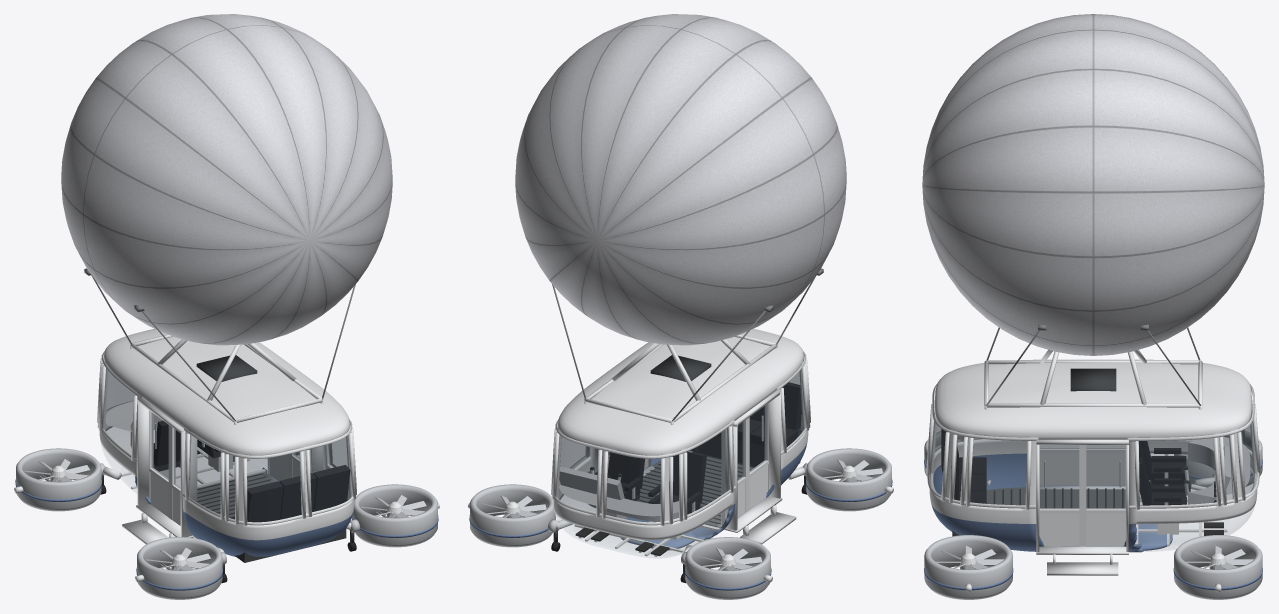
Rendered from aerostat.glb.
The picture shows the model from 3 angles, left to right: view 1: azimuth 30°, elevation 25°; view 2: azimuth 150°, elevation 25°; view 3: azimuth 270°, elevation 25°; orthographic projection. The views are drawn at different scales.
Parts seen in each view (by area): view 1: balloon, cabin, cabin_glass, trim, interior, duct_FL, duct_BL, duct_BR, rig, door_L1, door_L2, arms (+3 smaller); view 2: balloon, cabin, cabin_glass, interior, trim, duct_BL, duct_FL, duct_FR, rig, door_L2, door_L1, arms (+3 smaller); view 3: balloon, cabin, cabin_glass, trim, interior, rig, door_R1, duct_BR, duct_FR, door_R2, door_L1, door_L2 (+3 smaller).
Boxes of the visible parts, x1,y1,x2,y2 form: balloon: [61, 14, 392, 345]; cabin: [99, 328, 354, 556]; cabin_glass: [101, 369, 351, 521]; trim: [97, 351, 356, 544]; interior: [105, 401, 350, 562]; duct_FL: [14, 448, 101, 511]; duct_BL: [135, 537, 222, 599]; duct_BR: [352, 484, 439, 547]; rig: [84, 268, 355, 424]; door_L1: [149, 410, 170, 518]; door_L2: [170, 426, 194, 525]; arms: [100, 456, 359, 582]; balloon: [515, 14, 846, 345]; cabin: [553, 328, 808, 550]; cabin_glass: [555, 369, 805, 558]; interior: [559, 382, 801, 556]; trim: [551, 351, 810, 544]; duct_BL: [806, 448, 893, 511]; duct_FL: [685, 537, 772, 599]; duct_FR: [468, 484, 555, 547]; rig: [552, 268, 823, 424]; door_L2: [748, 403, 768, 510]; door_L1: [721, 418, 747, 526]; arms: [548, 463, 807, 582]; balloon: [922, 14, 1264, 355]; cabin: [929, 359, 1257, 552]; cabin_glass: [930, 400, 1256, 551]; trim: [926, 384, 1260, 575]; interior: [941, 429, 1250, 546]; rig: [984, 324, 1202, 409]; door_R1: [1082, 445, 1126, 546]; duct_BR: [924, 535, 1013, 599]; duct_FR: [1173, 535, 1262, 599]; door_R2: [1039, 445, 1082, 546]; door_L1: [1086, 445, 1125, 485]; door_L2: [1040, 445, 1079, 485].
Size of the model in its own units: 5.04 by 7.87 by 4.8.
Materials: 16 (2 with a texture image).
